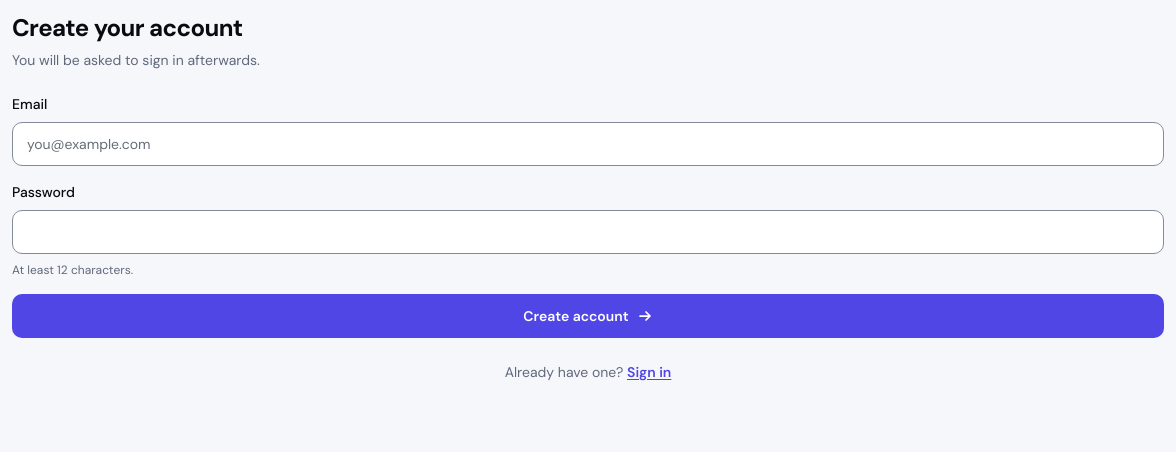
Test case: the registration form › reports a duplicate email as the server names it
The width and height of the screenshot is (1176, 452).
Type "taken@marketcore.test" into the field labelled "Email".
click(588, 144); type("taken@marketcore.test")  # box [12, 122, 1164, 166]
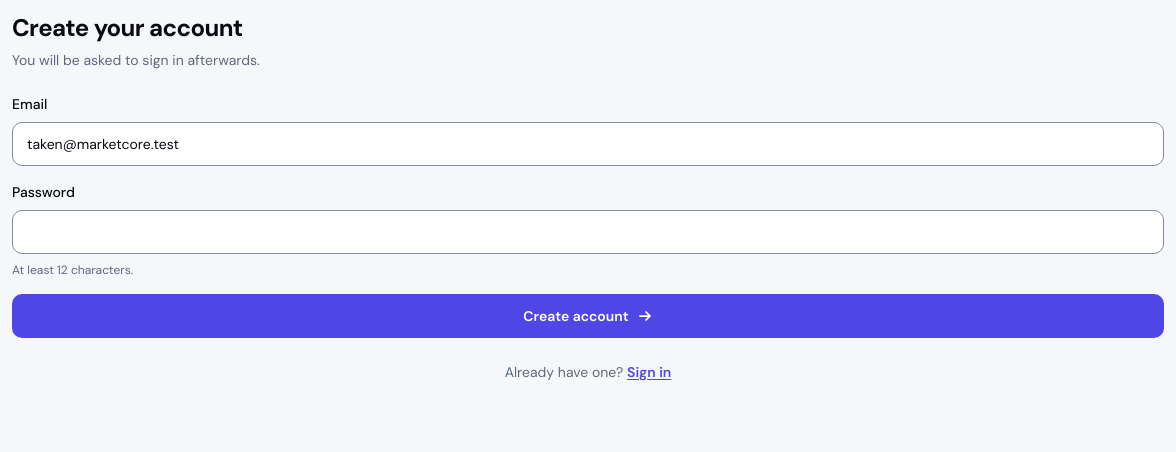
Type "a-long-enough-password" into the password field labelled "Password".
click(588, 232); type("a-long-enough-password")  # box [12, 210, 1164, 254]
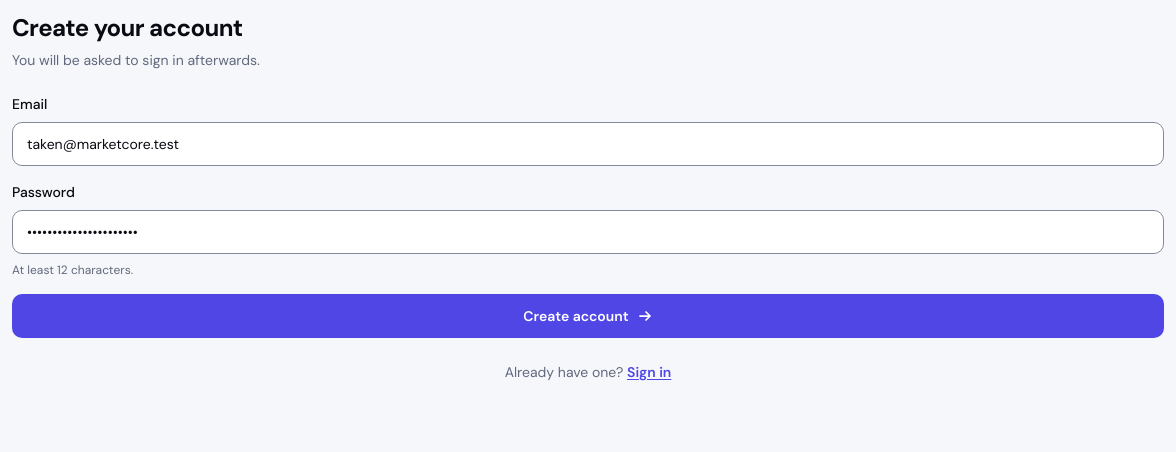
Click the button "Create account".
click(588, 316)  # box [12, 294, 1164, 338]
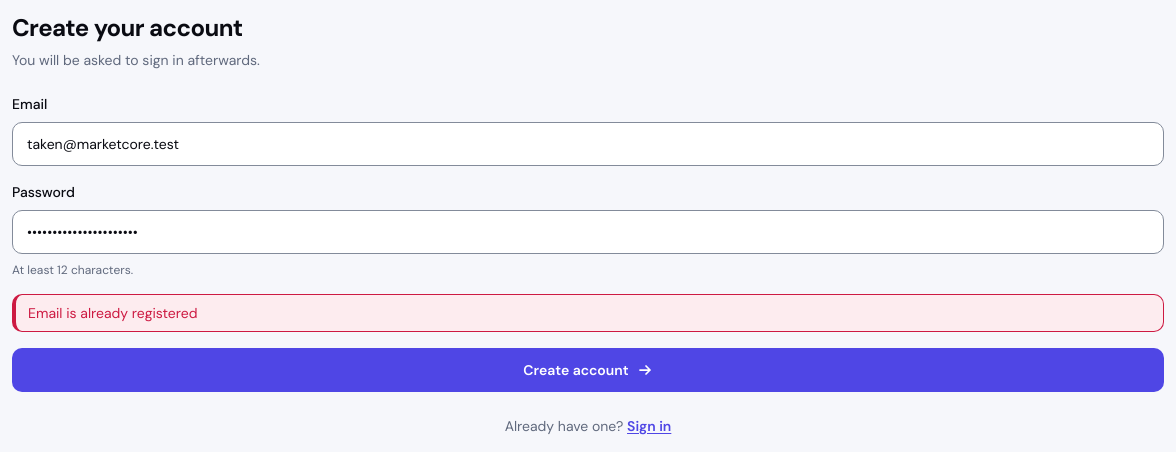
Expected: the text "Email is already registered" is shown, [12, 294, 1164, 332]
